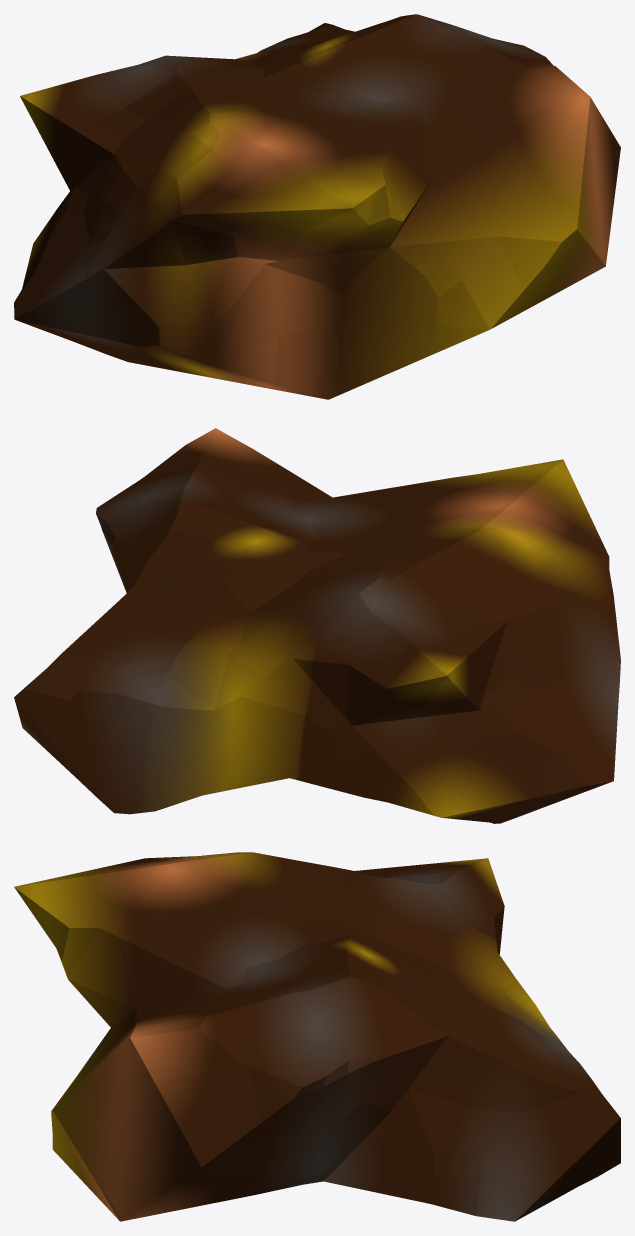
Rendered from Food.dae.
3 renders of one model, top to bottom at view 1: azimuth 30°, elevation 25°; view 2: azimuth 150°, elevation 25°; view 3: azimuth 270°, elevation 25°, orthographic. The views are drawn at different scales.
Visible parts, largest first — view 1: Icosphere; view 2: Icosphere; view 3: Icosphere.
Part boxes in pixels (x1,y1,x2,y2): Icosphere: (14, 14, 620, 399); Icosphere: (14, 428, 620, 823); Icosphere: (14, 852, 620, 1221).
Bounding box in the file's own units: 2.06 × 1.86 × 0.9371.
